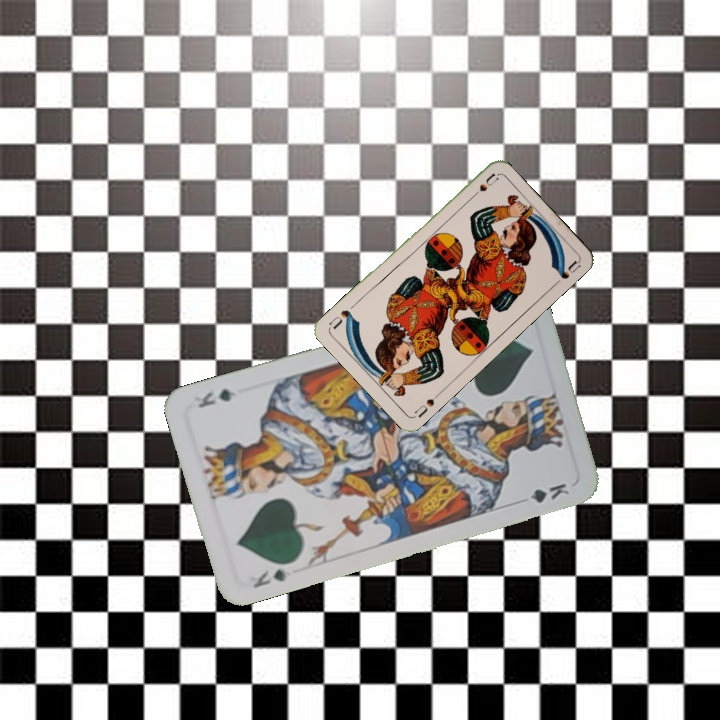GK: (249, 564, 290, 591)
SU: (466, 169, 501, 203), (410, 388, 443, 420)
